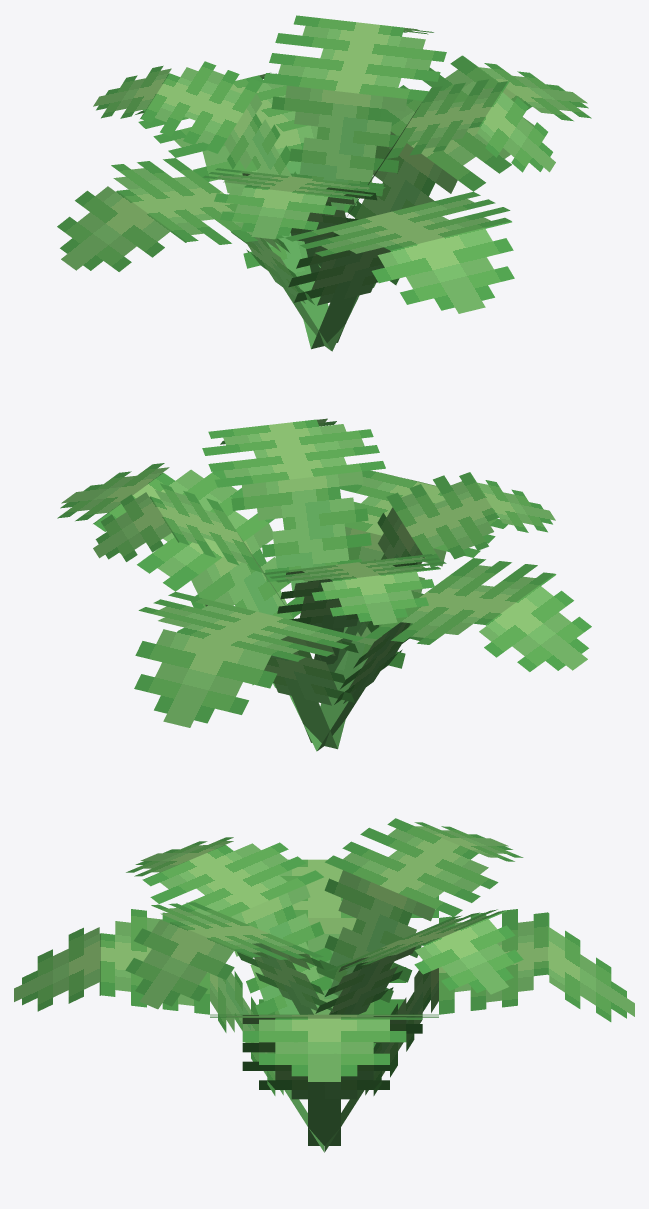
The model's file is paporotnic_nto.gltf.
3 renders of one model, top to bottom at view 1: azimuth 30°, elevation 25°; view 2: azimuth 150°, elevation 25°; view 3: azimuth 270°, elevation 25°, orthographic. The views are drawn at different scales.
Parts seen in each view (by area): view 1: cuboid; view 2: cuboid; view 3: cuboid.
Part boxes in pixels (<box>): cuboid: <box>57,15,591,351</box>; cuboid: <box>57,418,591,751</box>; cuboid: <box>14,818,634,1152</box>.
Size of the model in its own units: 2.37 by 1.12 by 2.37.
Materials: 1 (1 with a texture image).
